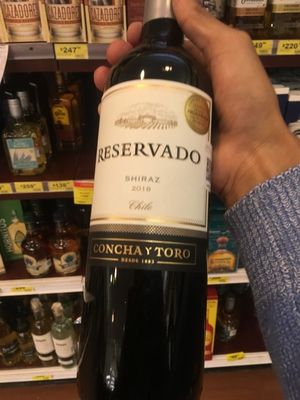reservado shiraz: (76, 17, 231, 400)
